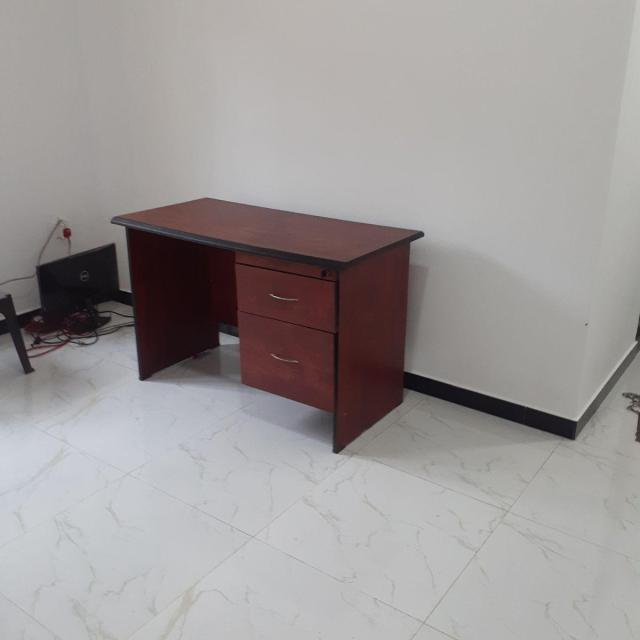table: (96, 183, 448, 463)
